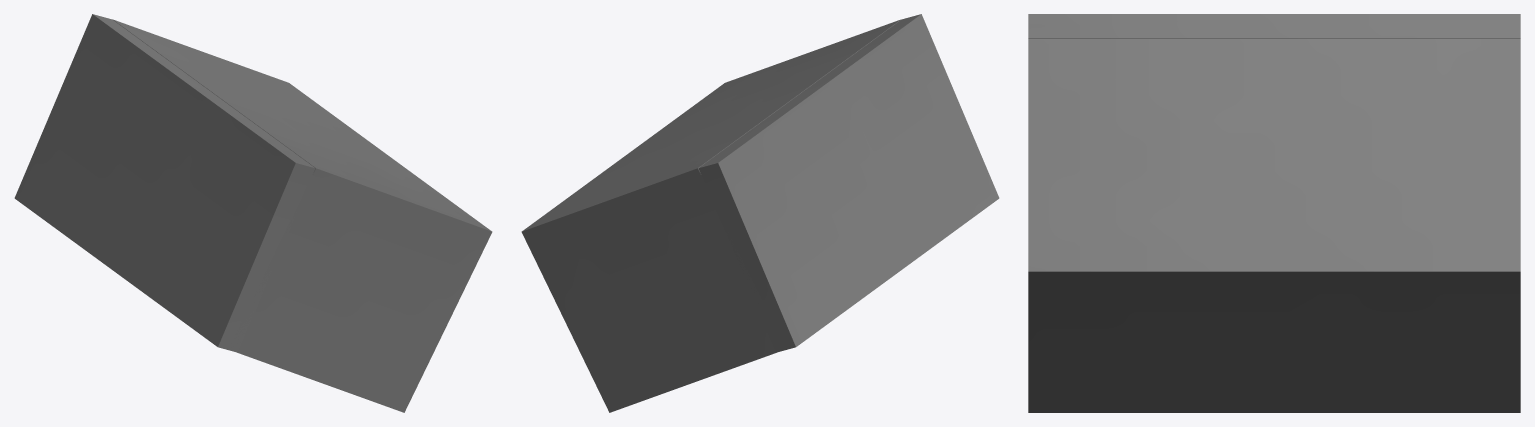
File: dc_metro_roof_d2.obj
The picture shows the model from 3 angles, left to right: view 1: azimuth 30°, elevation 25°; view 2: azimuth 150°, elevation 25°; view 3: azimuth 270°, elevation 25°; orthographic projection. The views are drawn at different scales.
Visible parts, largest first — view 1: part2; view 2: part2; view 3: part2.
Part boxes in pixels (bbox=[...]): part2: bbox=[14, 14, 492, 412]; part2: bbox=[521, 14, 999, 412]; part2: bbox=[1028, 14, 1520, 412].
Bounding box in the file's own units: 0.7794 × 0.7499 × 1.
Materials: 1 (1 with a texture image).
